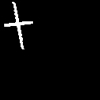single_crochet: (4, 2, 32, 48)
